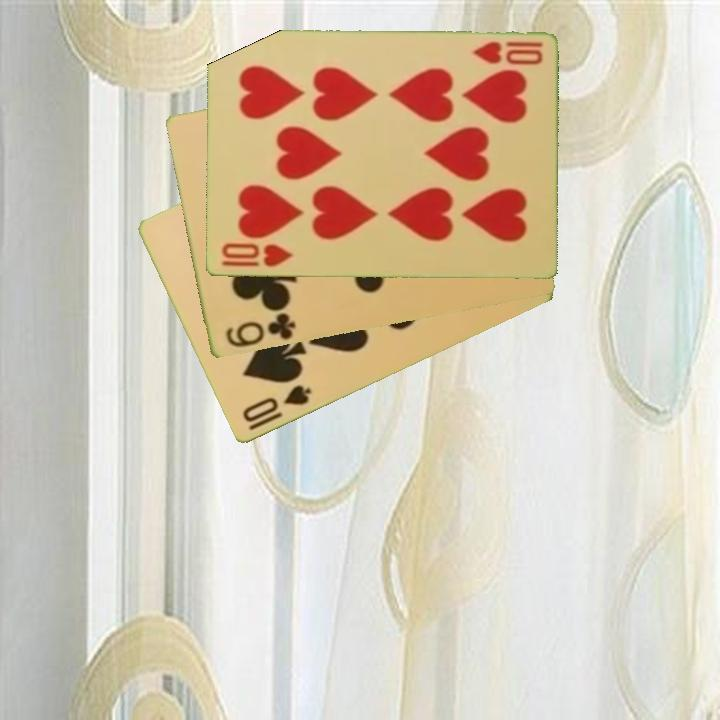10h: (469, 38, 546, 69), (217, 240, 295, 270)
10s: (238, 382, 314, 426)
6c: (222, 310, 299, 351)
